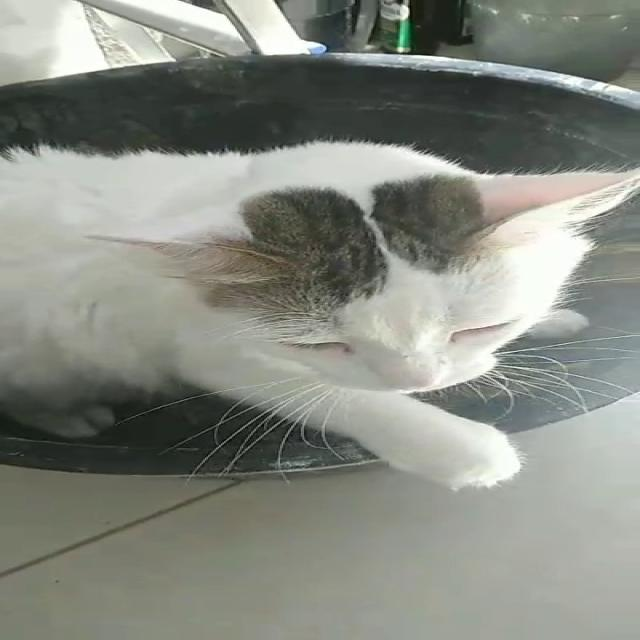Simba: (3, 127, 638, 507)
